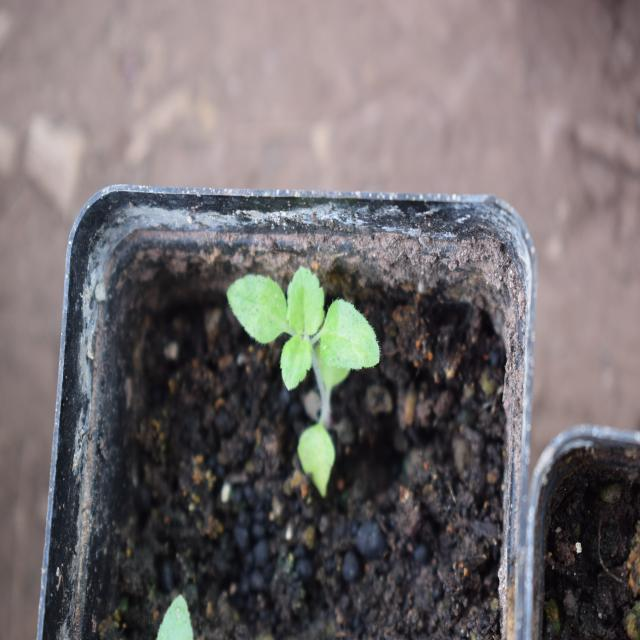billygoat_weed: (225, 260, 388, 466)
